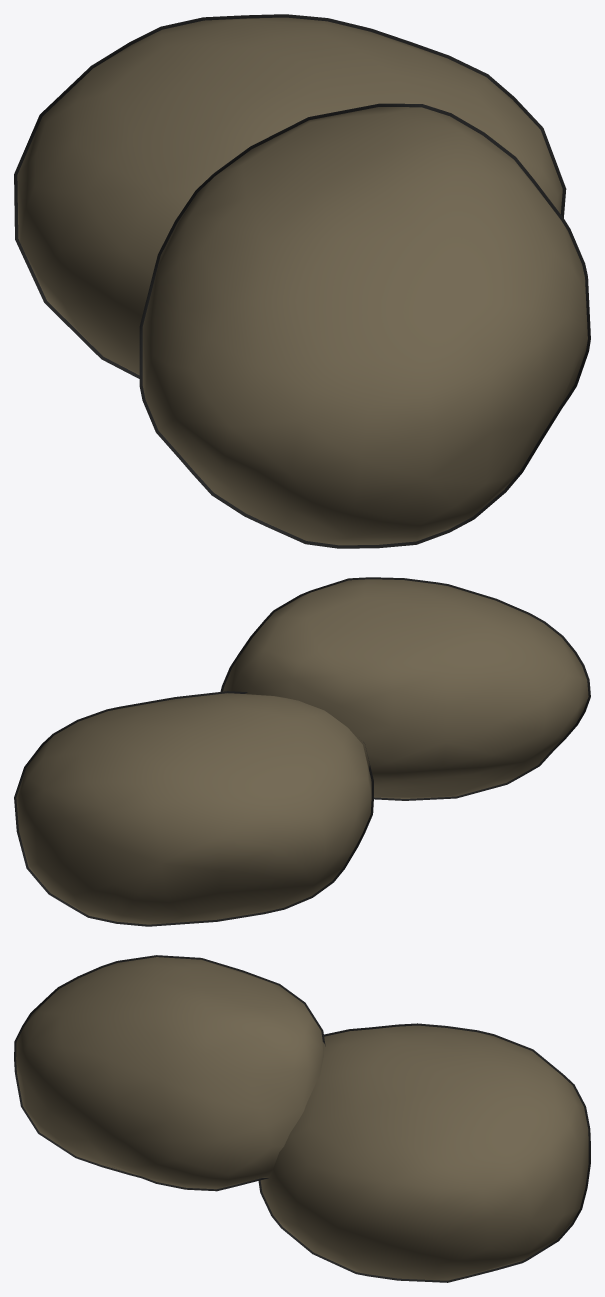
Rendered from tomatogrownrocks.fbx.
3 views of the same model, one above another, from view 1: azimuth 30°, elevation 25°; view 2: azimuth 150°, elevation 25°; view 3: azimuth 270°, elevation 25° (orthographic). The views are drawn at different scales.
Visible parts, largest first — view 1: Tomato_Clod_10, Tomato_Clod_00; view 2: Tomato_Clod_00, Tomato_Clod_10; view 3: Tomato_Clod_00, Tomato_Clod_10.
Part boxes in pixels (x1,y1,x2,y2): Tomato_Clod_10: (139, 103, 590, 548); Tomato_Clod_00: (14, 14, 566, 378); Tomato_Clod_00: (14, 691, 373, 926); Tomato_Clod_10: (220, 577, 590, 800); Tomato_Clod_00: (258, 1023, 590, 1282); Tomato_Clod_10: (14, 955, 325, 1191).
Size of what is drawn, in the model's own units: 50.11 by 30.46 by 66.93.
